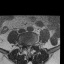CCS_normal: (28, 44, 29, 51)
LFS_severe_stenosis: (31, 43, 33, 48)
LLS_normal: (29, 44, 31, 49)
RFS_severe_stenosis: (24, 43, 26, 48)
RLS_stenosis: (26, 44, 28, 50)
